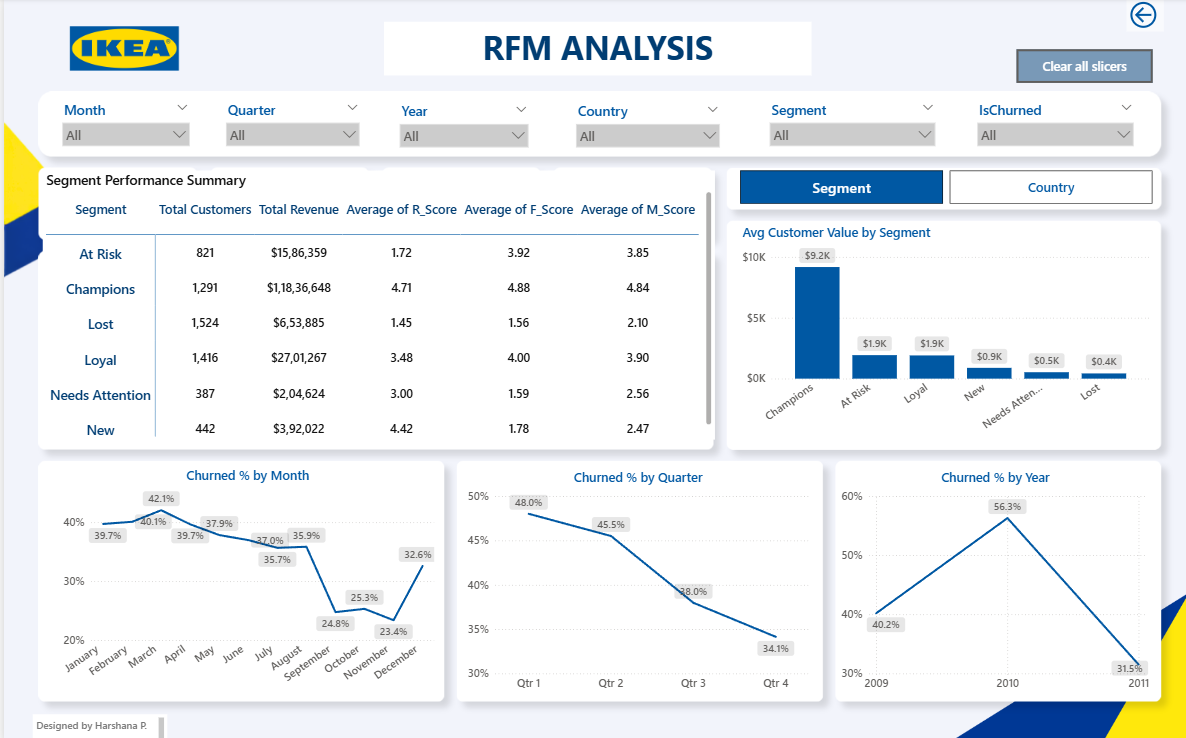

What the dashboard file says about the page in this screenshot:
{"tool":"powerbi","page":{"name":"RFM Segmentation","canvas":[1750,1100],"ordinal":2},"visuals":[{"type":"slicer","fields":{"Values":["Sheet1.InvoiceDate.Variation.Date Hierarchy.Month"]},"box":[75,146.2,208.1,78.7],"z":0},{"type":"columnChart","fields":{"Category":["Sheet1.Segment"],"Y":["Sheet1.Avg Customer Value"]},"box":[1083.8,331.8,611.9,320.7],"z":0,"group":"g2"},{"type":"lineChart","fields":{"Y":["Sheet1.Churned %"],"Category":["Sheet1.InvoiceDate.Variation.Date Hierarchy.Month"]},"box":[78.7,690.3,560.3,339.1],"z":0,"group":"g1"},{"type":"slicer","fields":{"Values":["Sheet1.InvoiceDate.Variation.Date Hierarchy.Quarter"]},"box":[316.8,146.2,217.4,76.9],"z":1000},{"type":"pivotTable","title":"Segment Performance Summary","fields":{"Rows":["Sheet1.Segment"],"Values":["Sheet1.Total Customers","Sheet1.Total Revenue","Avg(Sheet1.R_Score)","Avg(Sheet1.F_Score)","Avg(Sheet1.M_Score)"]},"box":[57.3,254.8,991.5,397],"z":1000,"group":"g2"},{"type":"lineChart","fields":{"Y":["Sheet1.Churned %"],"Category":["Sheet1.InvoiceDate.Variation.Date Hierarchy.Quarter"]},"box":[678.6,691.7,513.6,339.3],"z":1000,"group":"g1"},{"type":"slicer","fields":{"Values":["Sheet1.InvoiceDate.Variation.Date Hierarchy.Year"]},"box":[573.6,148.1,209.9,76.9],"z":2000},{"type":"lineChart","fields":{"Y":["Sheet1.Churned %"],"Category":["Sheet1.InvoiceDate.Variation.Date Hierarchy.Year"]},"box":[1229.7,691.7,464.9,339.3],"z":2000,"group":"g1"},{"type":"slicer","fields":{"Values":["Sheet1.Country"]},"box":[832.3,148.1,232.4,78.7],"z":3000},{"type":"slicer","fields":{"Values":["Sheet1.Segment"]},"box":[1119.1,146.2,264.3,82.5],"z":4000},{"type":"slicer","fields":{"Values":["Sheet1.IsChurned"]},"box":[1424.6,146.2,251.2,80.6],"z":5000},{"type":"textbox","box":[43.1,1055.3,198.7,45],"z":6000},{"type":"group","id":"g1","title":"Revenue","box":[78.7,690.3,1615.8,340.7],"z":8000},{"type":"bookmarkNavigator","box":[1085.6,254.4,608.2,49.8],"z":9000},{"type":"image","box":[57.1,0,241.5,149.3],"z":10000},{"type":"textbox","box":[559.8,35,630.4,79.3],"z":11000},{"type":"actionButton","box":[1655.2,0,55.3,49.8],"z":12000},{"type":"actionButton","box":[1493,75.6,200.9,49.8],"z":13000},{"type":"group","id":"g2","title":"Segment","box":[57.3,254.8,1638.4,397.7],"z":14000}]}

Visuals, with their boxes in screenshot pixels (x1, y1, x2, y2), scaled from the page's 1750x1100 canvas onto the 1186x738 screenshot:
slicer - Sheet1.InvoiceDate.Variation.Date Hierarchy.Month: 51,98,192,151
columnChart - Sheet1.Segment x Sheet1.Avg Customer Value: 735,223,1149,438
lineChart - Sheet1.Churned % x Sheet1.InvoiceDate.Variation.Date Hierarchy.Month: 53,463,433,691
slicer - Sheet1.InvoiceDate.Variation.Date Hierarchy.Quarter: 215,98,362,150
"Segment Performance Summary" pivotTable: 39,171,711,437
lineChart - Sheet1.Churned % x Sheet1.InvoiceDate.Variation.Date Hierarchy.Quarter: 460,464,808,692
slicer - Sheet1.InvoiceDate.Variation.Date Hierarchy.Year: 389,99,531,151
lineChart - Sheet1.Churned % x Sheet1.InvoiceDate.Variation.Date Hierarchy.Year: 833,464,1148,692
slicer - Sheet1.Country: 564,99,722,152
slicer - Sheet1.Segment: 758,98,938,153
slicer - Sheet1.IsChurned: 965,98,1136,152
textbox: 29,708,164,737
"Revenue" group: 53,463,1148,692
bookmarkNavigator: 736,171,1148,204
image: 39,0,202,100
textbox: 379,23,807,77
actionButton: 1122,0,1159,33
actionButton: 1012,51,1148,84
"Segment" group: 39,171,1149,438
